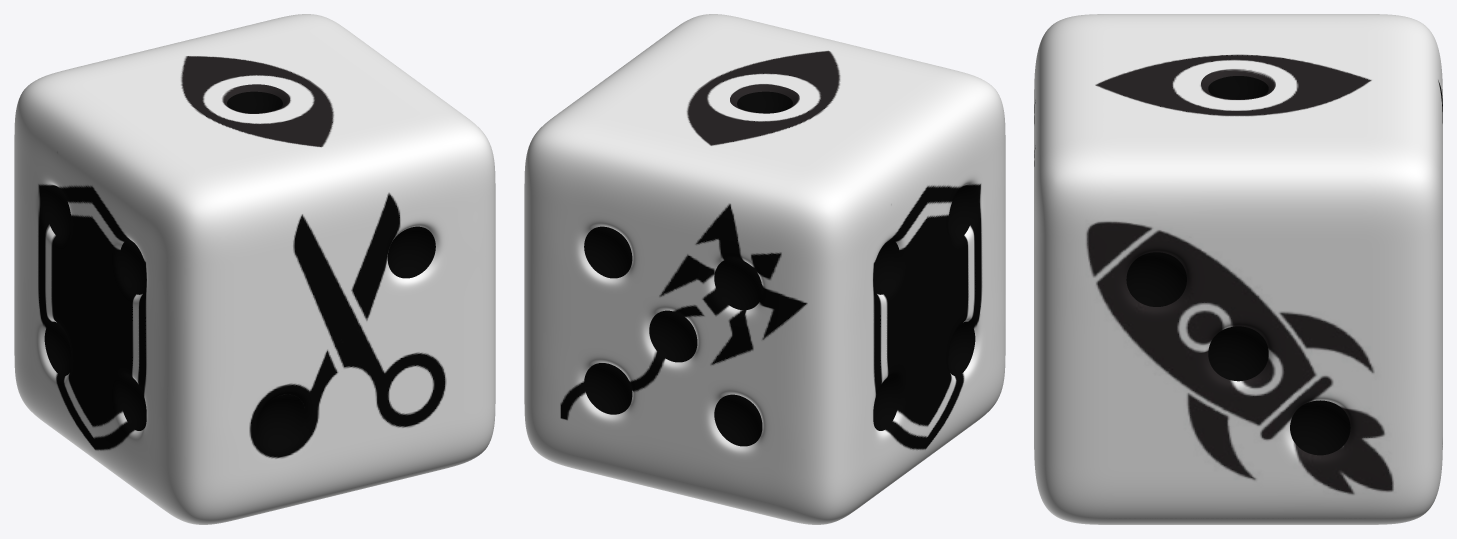
The model's file is Dice 5 Sides.fbx.
3 views of the same model, side by side, from view 1: azimuth 30°, elevation 25°; view 2: azimuth 150°, elevation 25°; view 3: azimuth 270°, elevation 25° (orthographic). The views are drawn at different scales.
Parts seen in each view (by area): view 1: Cube; view 2: Cube; view 3: Cube.
Part boxes in pixels (bbox=[...]): Cube: bbox=[14, 14, 495, 524]; Cube: bbox=[524, 14, 1005, 524]; Cube: bbox=[1034, 14, 1442, 524].
Size of the model in its own units: 100 by 100 by 100.
